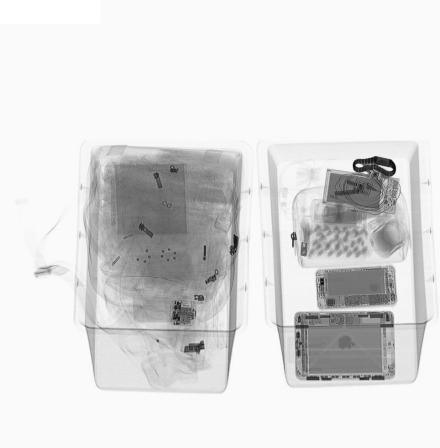Powerbank: (324, 167, 399, 215)
